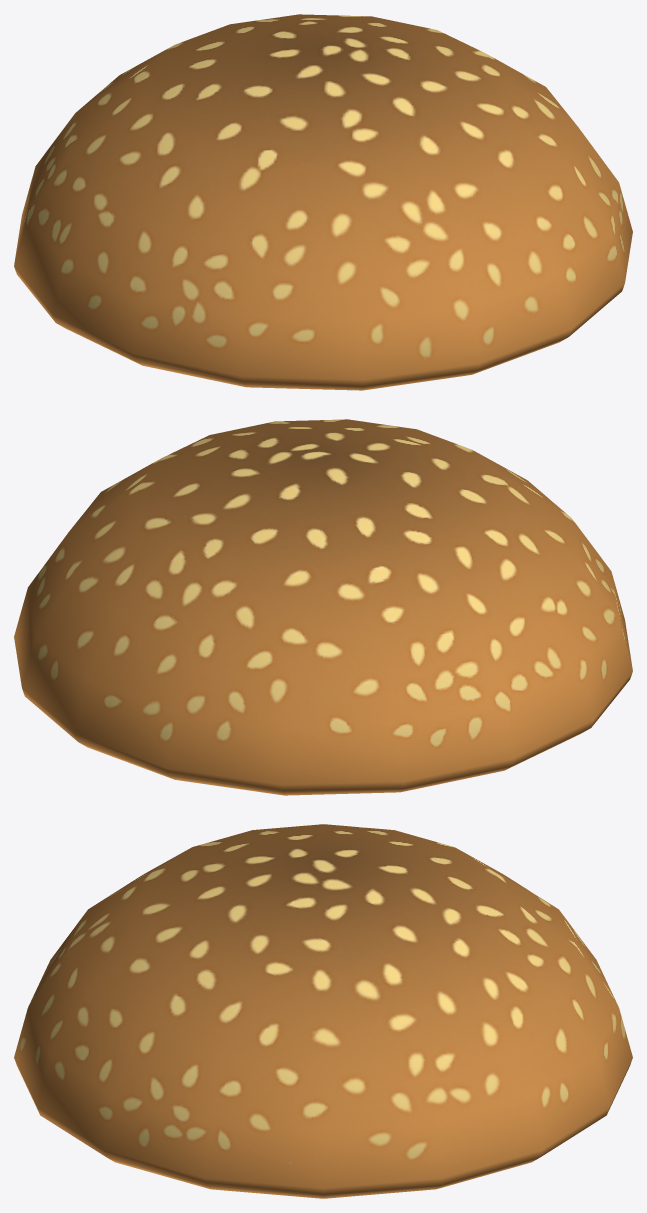
File: TopBun.fbx
3 renders of one model, top to bottom at view 1: azimuth 30°, elevation 25°; view 2: azimuth 150°, elevation 25°; view 3: azimuth 270°, elevation 25°, orthographic.
Visible parts, largest first — view 1: Bun Top; view 2: Bun Top; view 3: Bun Top.
Boxes of the visible parts, bbox=[...] form: Bun Top: bbox=[14, 14, 632, 390]; Bun Top: bbox=[14, 419, 632, 795]; Bun Top: bbox=[14, 824, 632, 1198].
Bounding box in the file's own units: 200 × 76.28 × 200.
